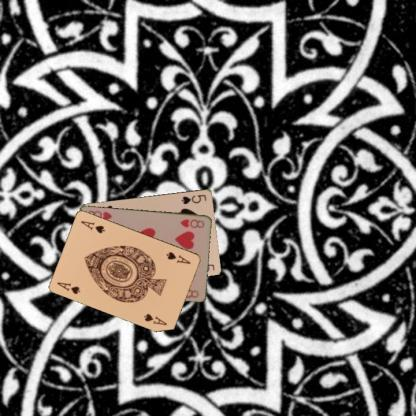5s: (179, 192, 208, 206)
8h: (178, 216, 206, 230)
As: (164, 249, 192, 265), (54, 280, 82, 296)
